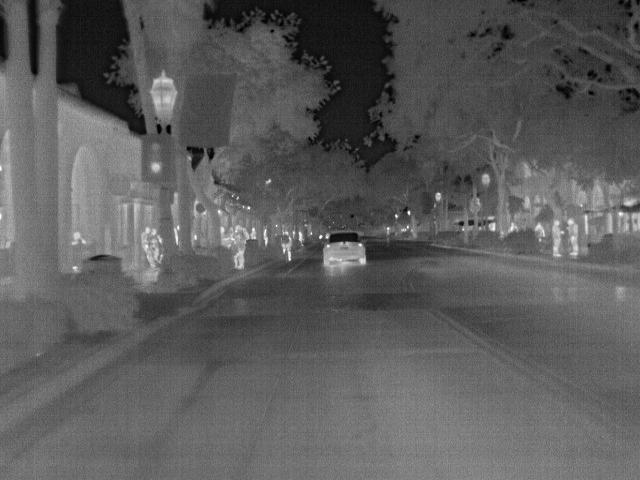car: (322, 231, 368, 270)
person: (141, 225, 162, 269), (71, 229, 90, 273), (233, 225, 250, 271), (566, 215, 581, 257), (550, 218, 564, 260), (151, 228, 166, 260), (280, 230, 294, 260), (532, 220, 546, 245)
